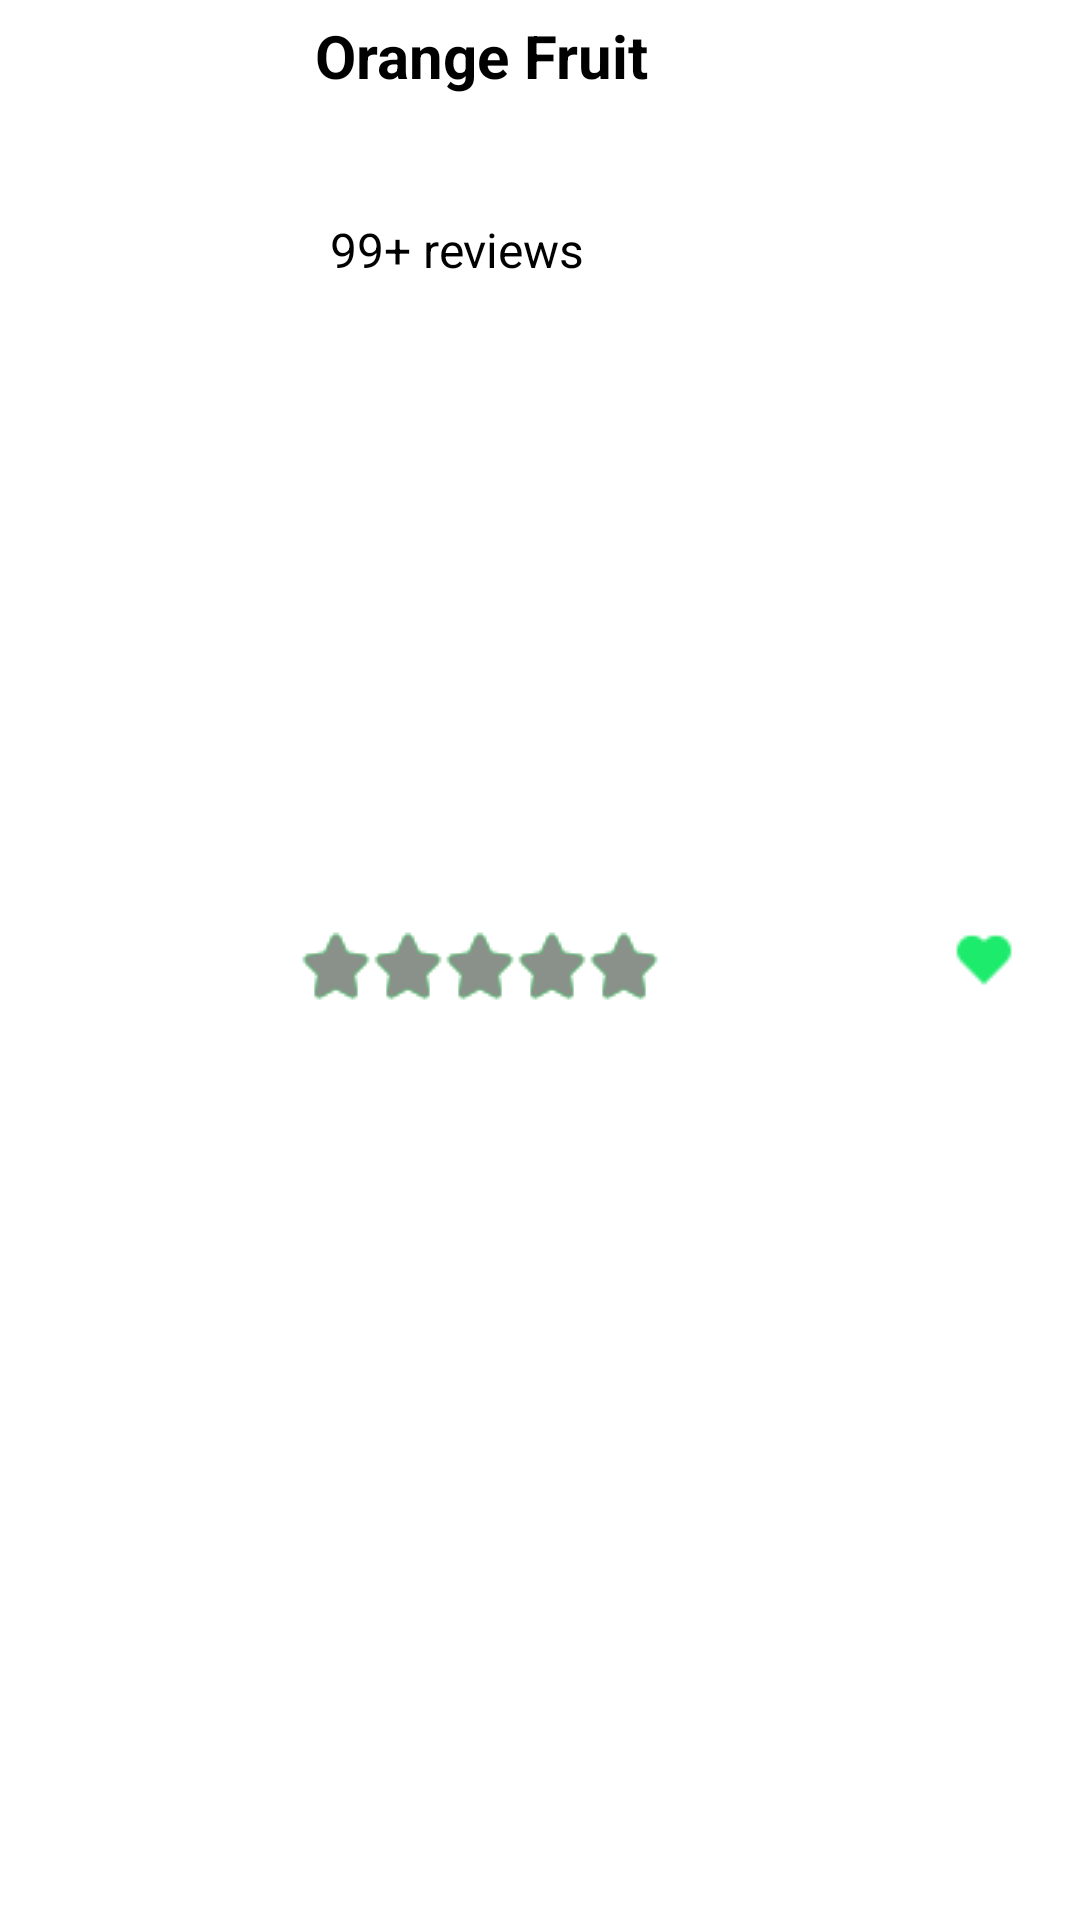

Icons on this 1080×1920 Android screen, each with the point to tap as (x=x, y=y):
heartsolid: (x=984, y=960)
